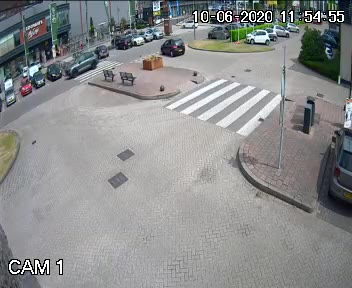car: (61, 51, 100, 78), (156, 36, 188, 59)
